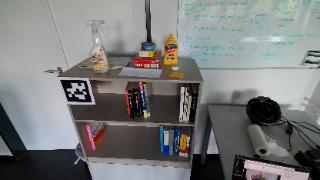book-spine: (139, 81, 147, 118), (85, 124, 96, 150), (143, 84, 150, 117), (190, 93, 197, 123), (173, 128, 181, 154), (178, 134, 187, 157), (183, 87, 189, 121), (133, 88, 140, 117), (127, 90, 134, 119), (179, 87, 184, 121), (186, 96, 192, 123), (163, 130, 169, 154), (169, 129, 174, 155), (125, 90, 130, 114), (185, 134, 190, 157), (160, 126, 164, 151)
